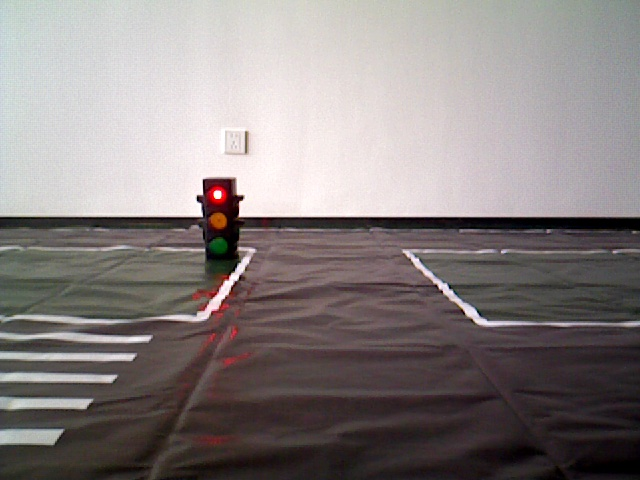red: (202, 183, 235, 265)
